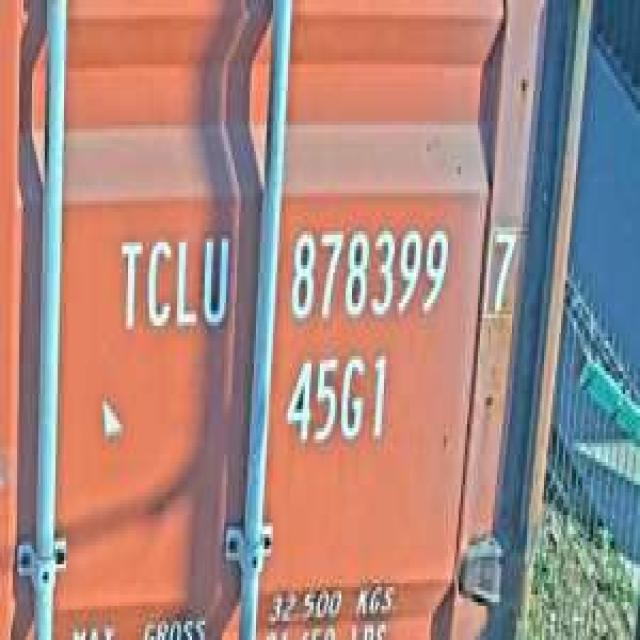dv: (482, 216, 523, 318)
owner: (113, 220, 233, 337)
serial: (282, 212, 452, 330)
size: (280, 341, 390, 454)
